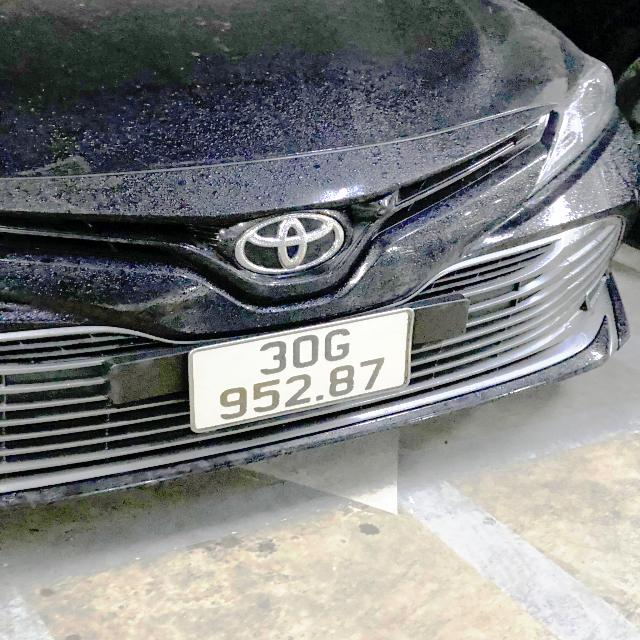license_plate: (189, 301, 413, 437)
